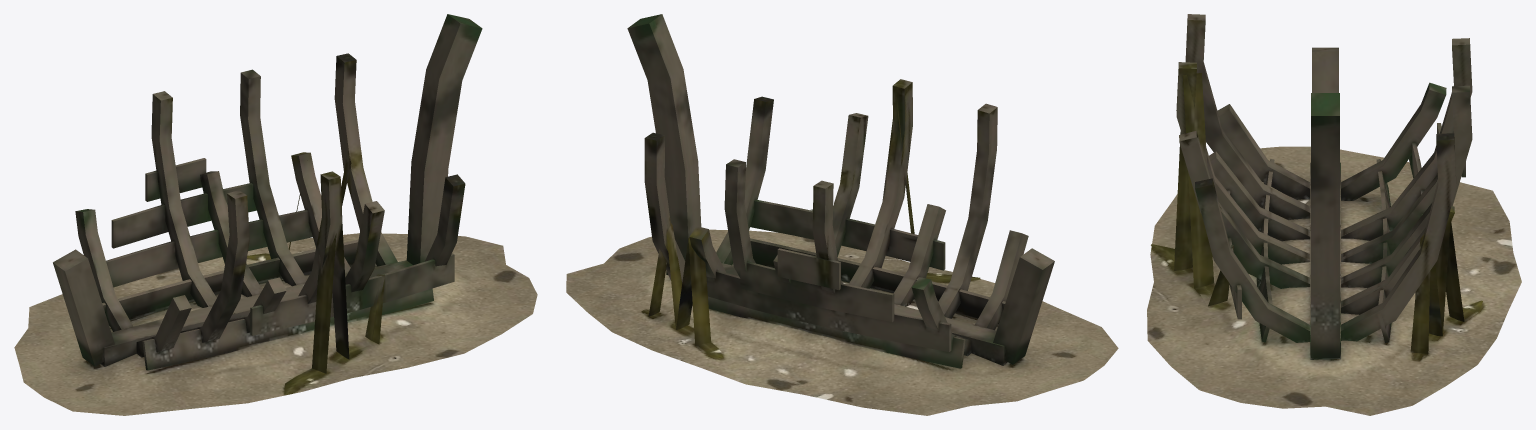
File: drowned_ribs.glb
3 views of the same model, side by side, from view 1: azimuth 30°, elevation 25°; view 2: azimuth 150°, elevation 25°; view 3: azimuth 270°, elevation 25° (orthographic). The views are drawn at different scales.
Parts seen in each view (by area): view 1: drowned_ribs; view 2: drowned_ribs; view 3: drowned_ribs.
Part boxes in pixels (x1,y1,x2,y2): drowned_ribs: (14,14,537,415); drowned_ribs: (566,14,1118,415); drowned_ribs: (1147,14,1521,415).
Bounding box in the file's own units: 3.67 × 1.87 × 2.16.
Materials: 1 (1 with a texture image).
